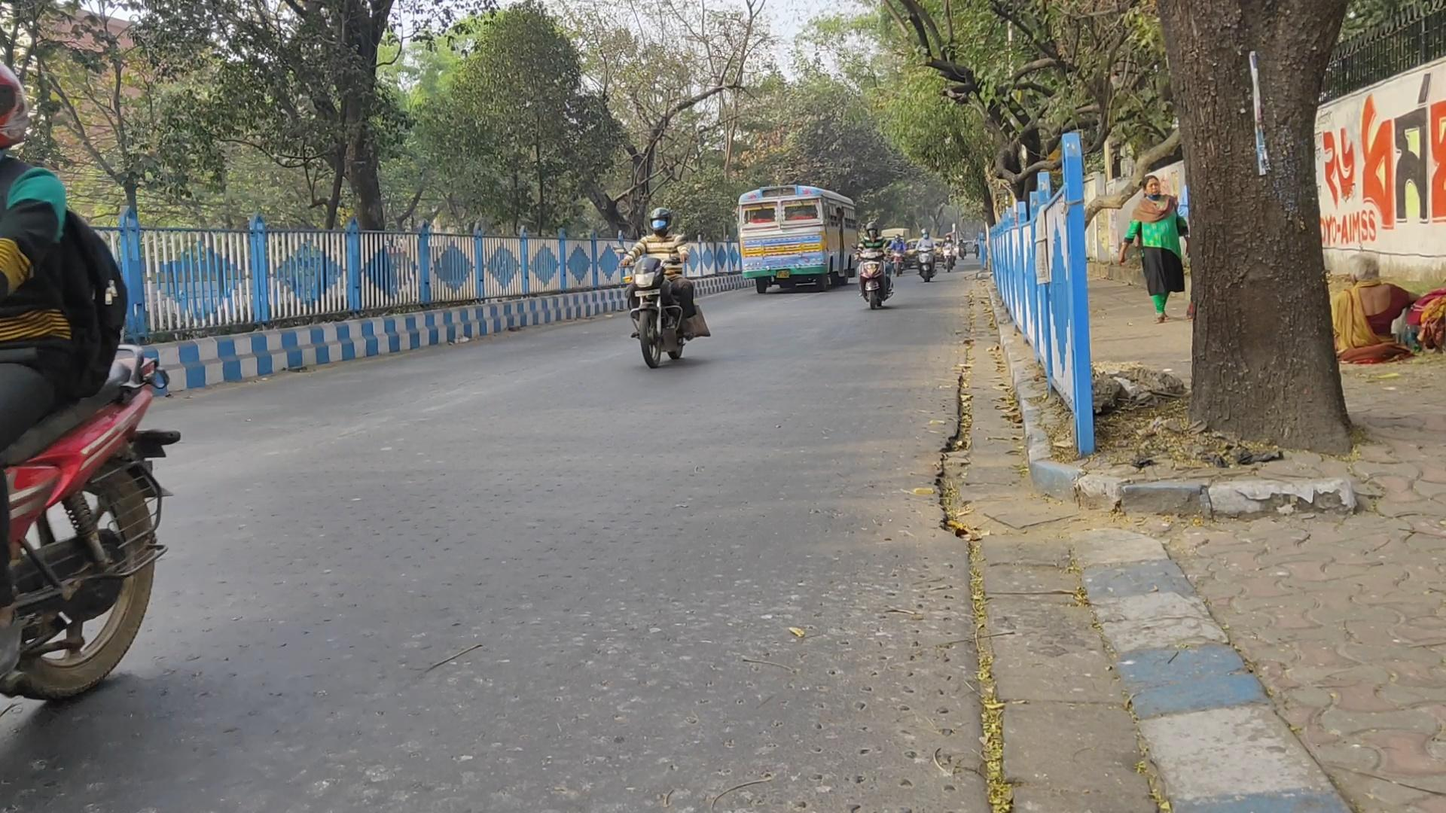Bus: (737, 184, 859, 291)
bike: (1, 56, 182, 742), (617, 206, 700, 367), (857, 222, 893, 309), (915, 227, 938, 284), (889, 233, 907, 276), (940, 232, 958, 273)
